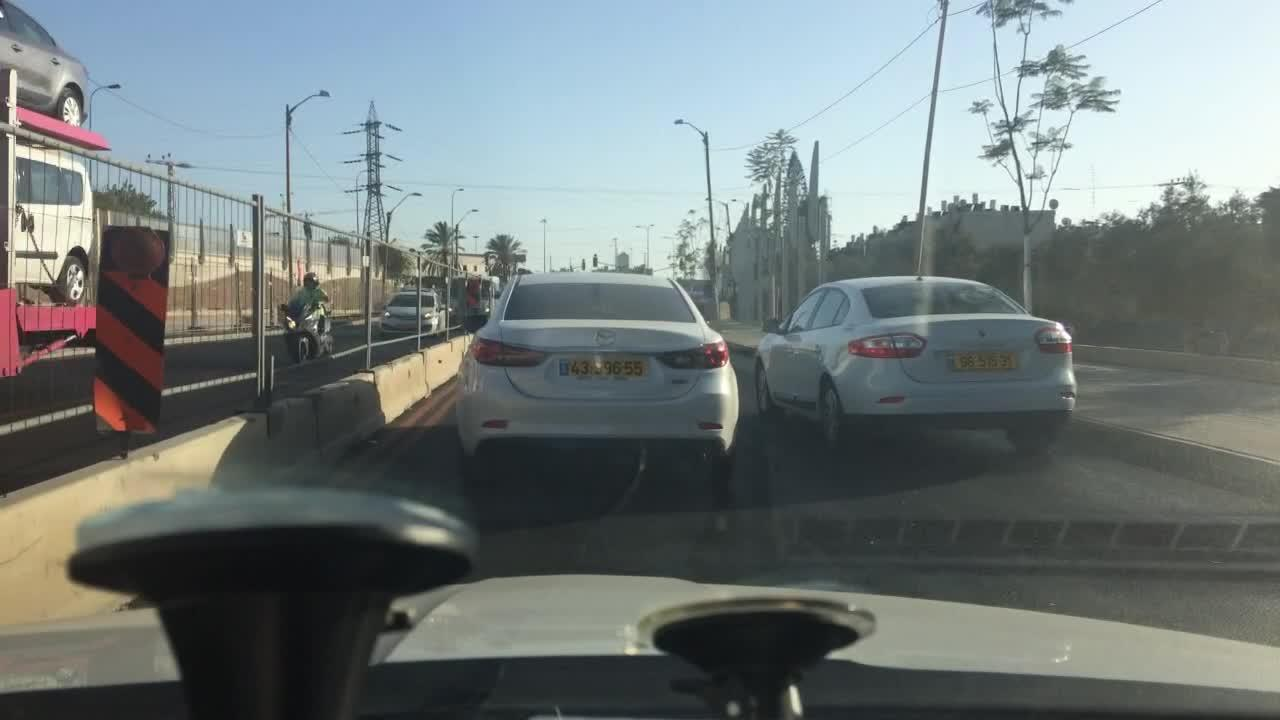Mazda: (590, 325, 626, 355)
